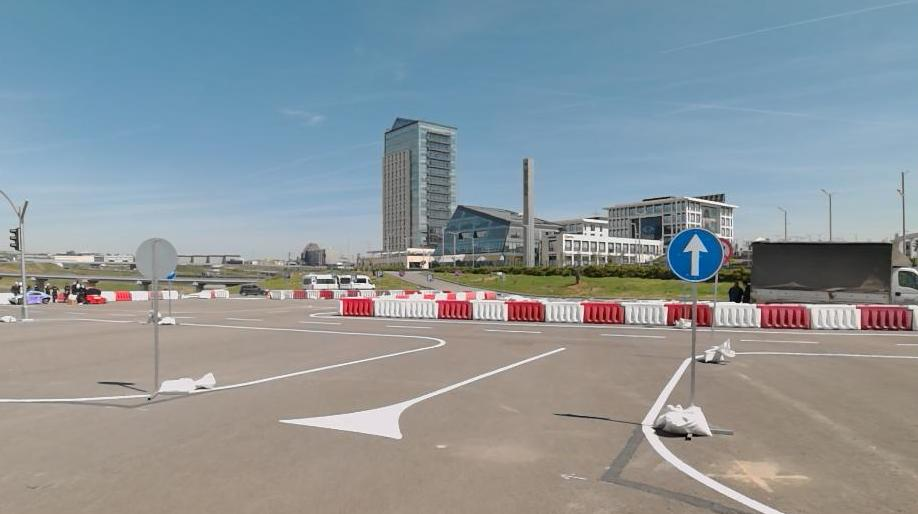nesne: (1, 304, 918, 514), (0, 342, 572, 514), (266, 346, 782, 514), (641, 352, 917, 513), (0, 321, 446, 404), (278, 346, 567, 439), (339, 297, 918, 329), (751, 242, 918, 304), (667, 228, 725, 281), (657, 404, 713, 439), (857, 305, 916, 330), (807, 304, 862, 330), (755, 303, 809, 329), (619, 300, 671, 327), (372, 297, 438, 318), (159, 373, 219, 396), (665, 301, 715, 328), (715, 302, 763, 328), (579, 300, 624, 325), (540, 300, 585, 324), (503, 300, 545, 323), (468, 299, 507, 321), (435, 299, 472, 318), (301, 273, 338, 292), (7, 289, 53, 304), (339, 297, 373, 316), (336, 274, 376, 290), (239, 284, 270, 297), (726, 279, 746, 299)
